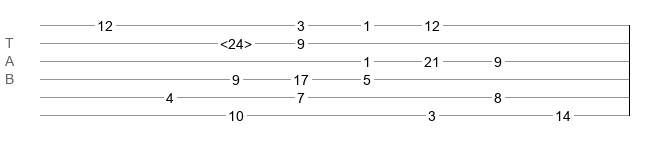1: (363, 18, 371, 28), (363, 54, 371, 64)
10: (228, 108, 244, 118)
12: (97, 18, 113, 28), (424, 18, 440, 28)
14: (555, 108, 571, 118)
17: (293, 72, 309, 82)
21: (424, 54, 440, 64)
3: (297, 18, 305, 28), (428, 108, 436, 118)
4: (166, 90, 174, 100)
5: (363, 72, 371, 82)
7: (297, 90, 305, 100)
8: (494, 90, 502, 100)
9: (232, 72, 240, 82), (297, 36, 305, 46), (494, 54, 502, 64)
harmonic: (220, 36, 252, 46)
